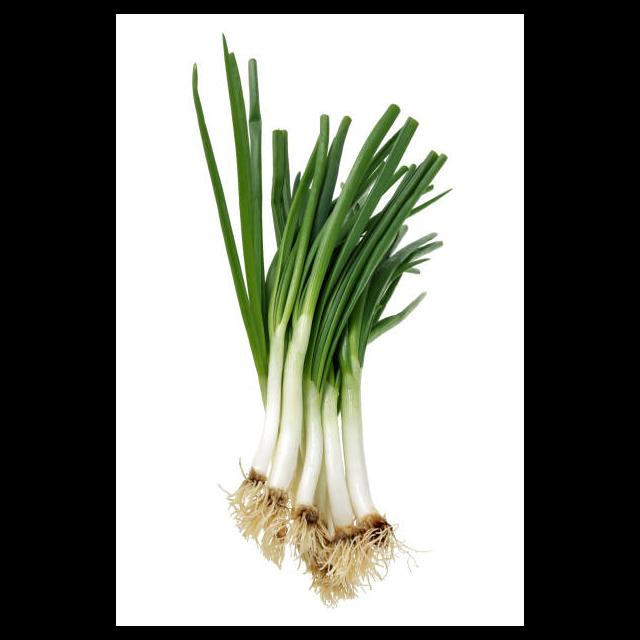green_onion: (190, 27, 446, 595)
